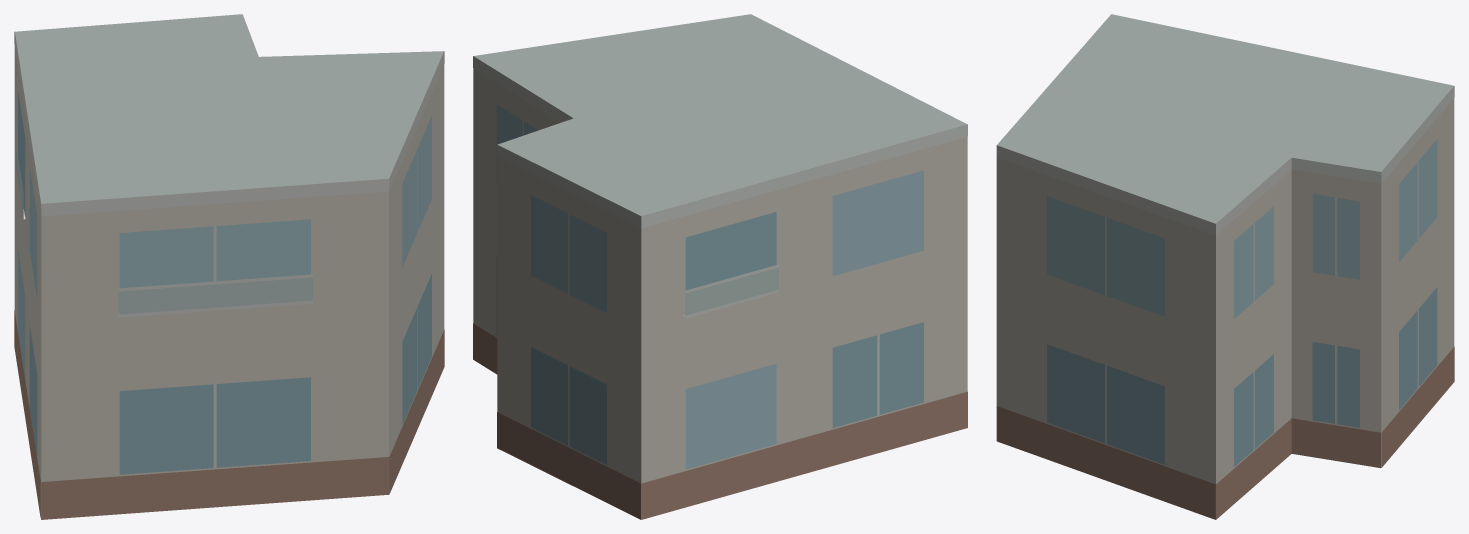
File: survey-upis-32456466.glb
3 views of the same model, side by side, from view 1: azimuth 30°, elevation 25°; view 2: azimuth 150°, elevation 25°; view 3: azimuth 270°, elevation 25° (orthographic). The views are drawn at different scales.
Visible parts, largest first — view 1: survey-upis-32456466.tmp; view 2: survey-upis-32456466.tmp; view 3: survey-upis-32456466.tmp.
Boxes of the visible parts, x1=… form: survey-upis-32456466.tmp: x1=14, y1=14, x2=444, y2=519; survey-upis-32456466.tmp: x1=473, y1=14, x2=967, y2=519; survey-upis-32456466.tmp: x1=996, y1=14, x2=1454, y2=519.
Bounding box in the file's own units: 9.28 × 6.1 × 8.56.
